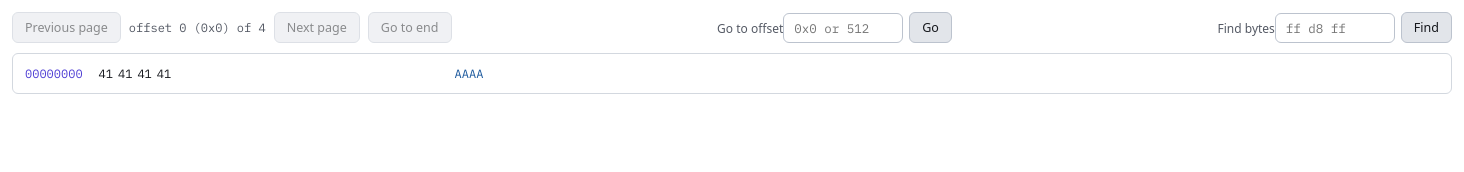
it: HexTab byte-search honesty (B2-014) › says a search that could not read the whole file did not cover it
expect the text "AAAA" is shown: met, box [455,64,483,83]
Type "ff d8" into the field named "byte pattern". click: (1335, 28)
box: [1275,12,1395,42]
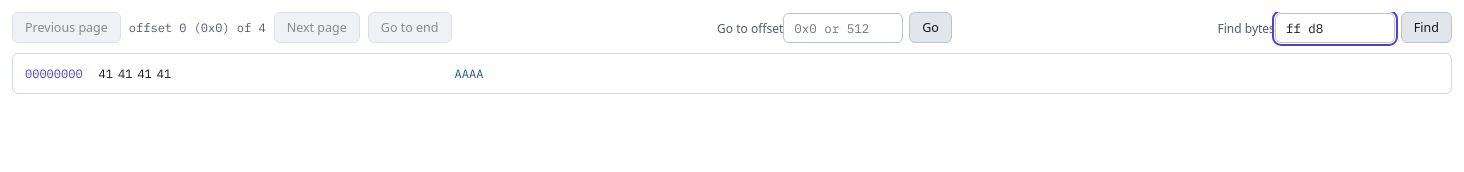
Click the button "Find". click: (1426, 28)
box: [1401,12,1452,43]
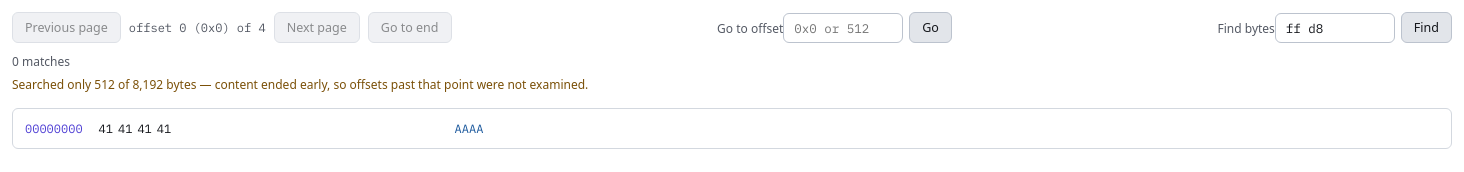
expect the text "0 matches" is shown: met, box [12,53,70,70]
expect the text "Searched only 512 of" is shown: met, box [12,76,588,93]
